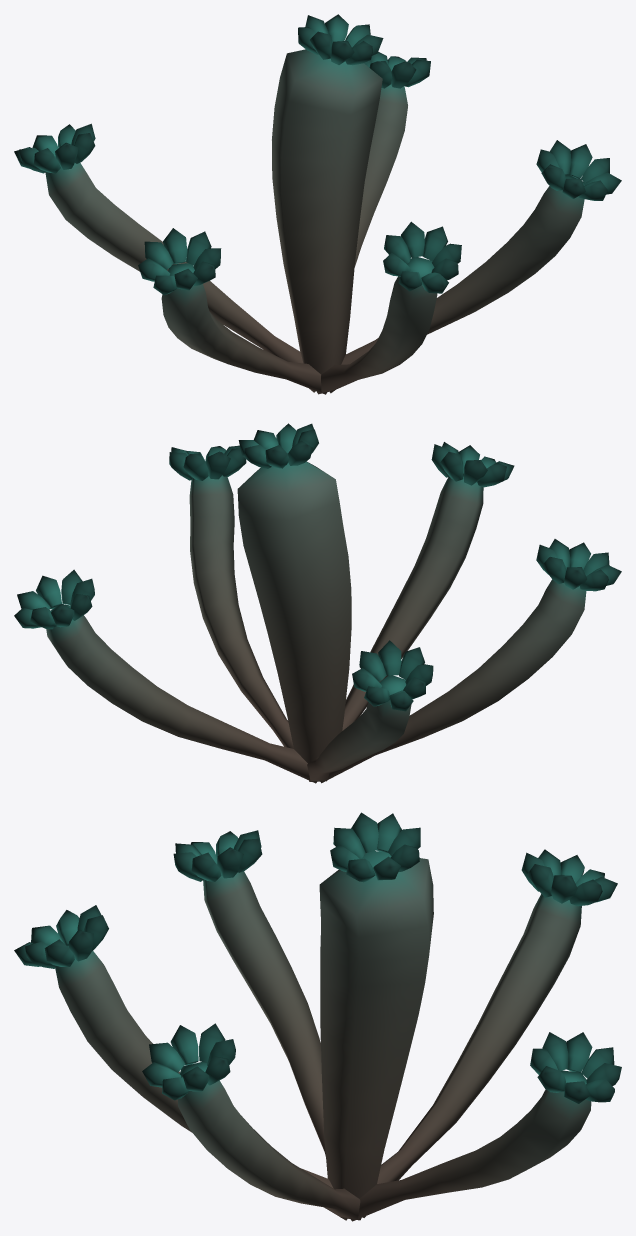
The model's file is plants-cacti-succulents-fan-succulent_v4.fbx.
3 views of the same model, one above another, from view 1: azimuth 30°, elevation 25°; view 2: azimuth 150°, elevation 25°; view 3: azimuth 270°, elevation 25° (orthographic). The views are drawn at different scales.
Parts seen in each view (by area): view 1: Fan Succulent_v4; view 2: Fan Succulent_v4; view 3: Fan Succulent_v4.
Part boxes in pixels (left/top/right/bottom): Fan Succulent_v4: left=14, top=14, right=621, bottom=394; Fan Succulent_v4: left=14, top=423, right=621, bottom=783; Fan Succulent_v4: left=14, top=812, right=621, bottom=1221.
Size of the model in its own units: 0.2949 by 0.2198 by 0.3.
